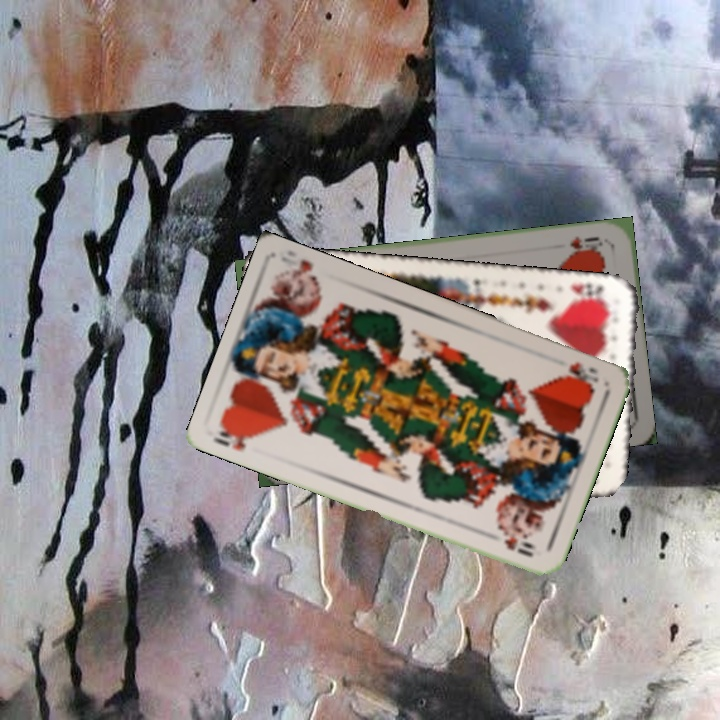HK: (566, 279, 612, 308)
HO: (210, 420, 260, 453), (560, 358, 601, 391), (565, 232, 606, 258)
